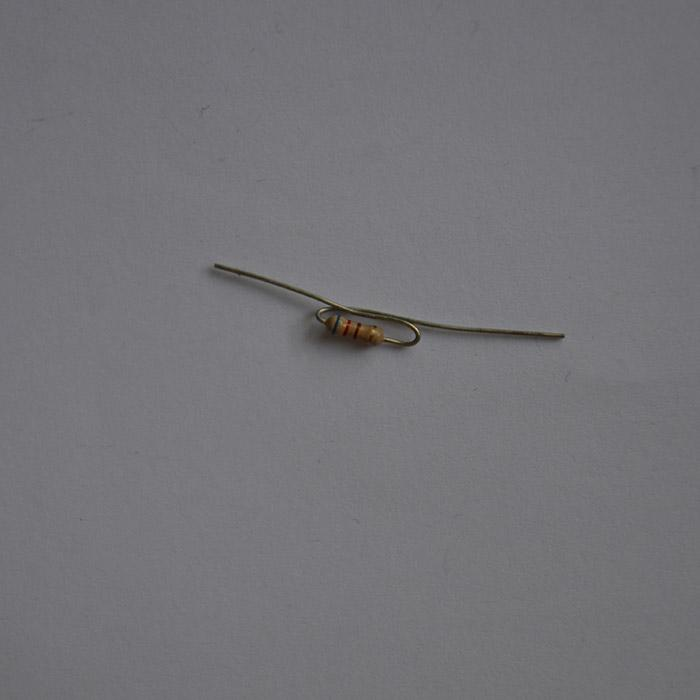resistor: (323, 313, 384, 345)
